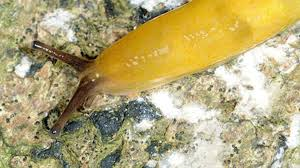slug: (29, 1, 300, 139)
